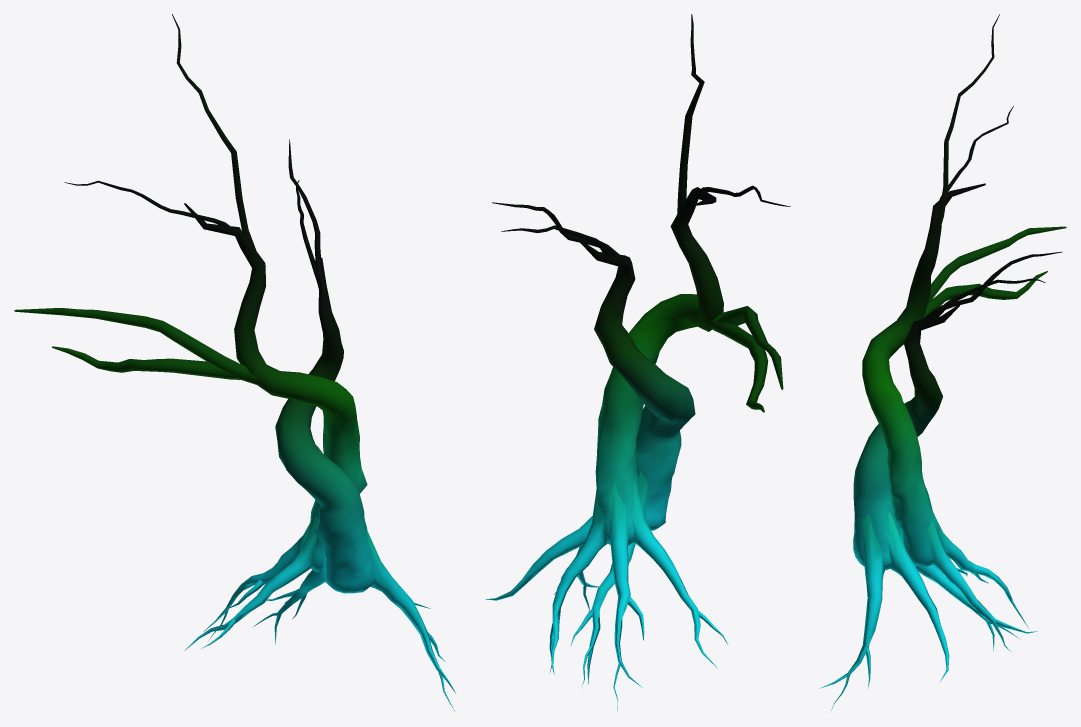
File: Burntree6.fbx
3 views of the same model, side by side, from view 1: azimuth 30°, elevation 25°; view 2: azimuth 150°, elevation 25°; view 3: azimuth 270°, elevation 25° (orthographic). The views are drawn at different scales.
Visible parts, largest first — view 1: Burntree6_LOD0; view 2: Burntree6_LOD0; view 3: Burntree6_LOD0.
Boxes of the visible parts, box(x1,y1,x2,y2) form: Burntree6_LOD0: box(14, 14, 455, 710); Burntree6_LOD0: box(485, 14, 790, 710); Burntree6_LOD0: box(820, 14, 1066, 710).
Size of what is drawn, in the model's own units: 602 by 1121 by 409.
